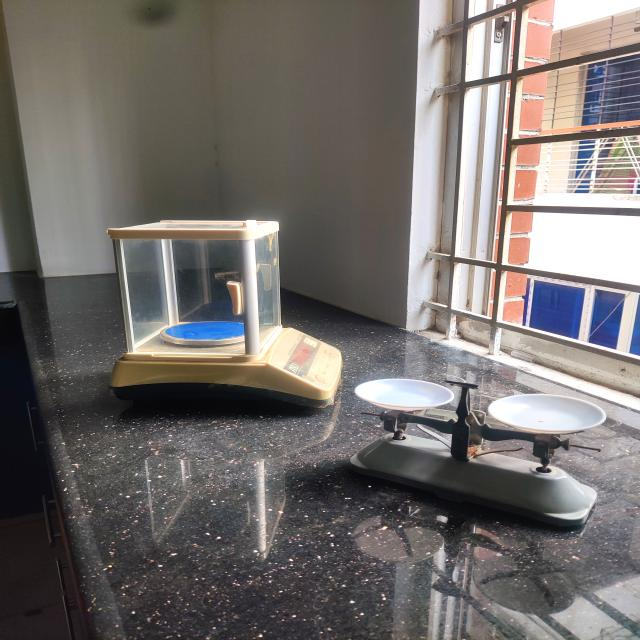Mechanical_Balance_Scale: (337, 346, 619, 564)
Precision_Weight_Scale: (72, 200, 350, 430)
